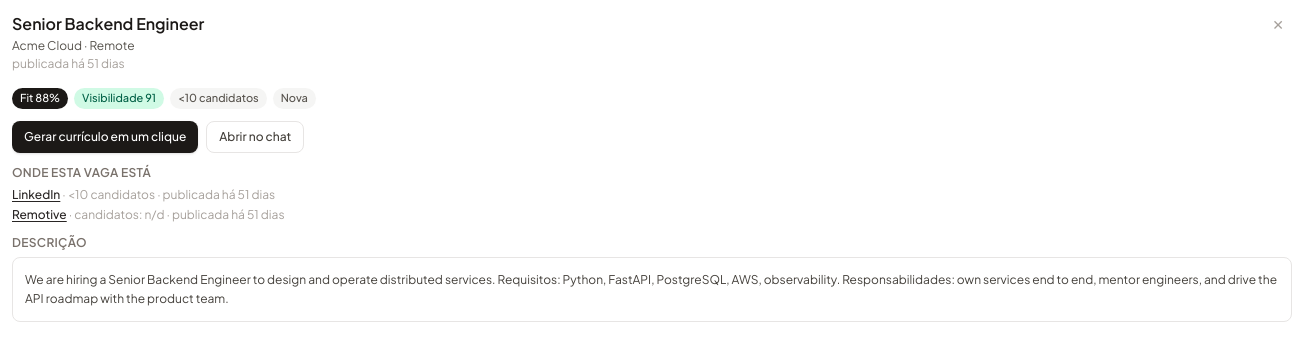
Test: ListingDetail › a 409 says a One-click for this listing is already running
The width and height of the screenshot is (1304, 363).
Click the button "Gerar currículo em um clique" at (105, 136), box [12, 120, 198, 152]
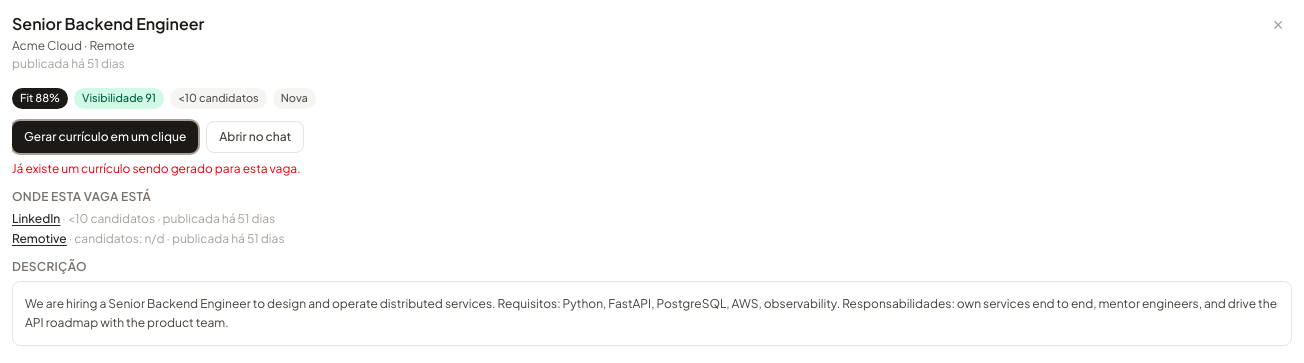
Expected: the message reads "Já existe um currículo sendo gerado para esta vaga.", [12, 160, 301, 176]
